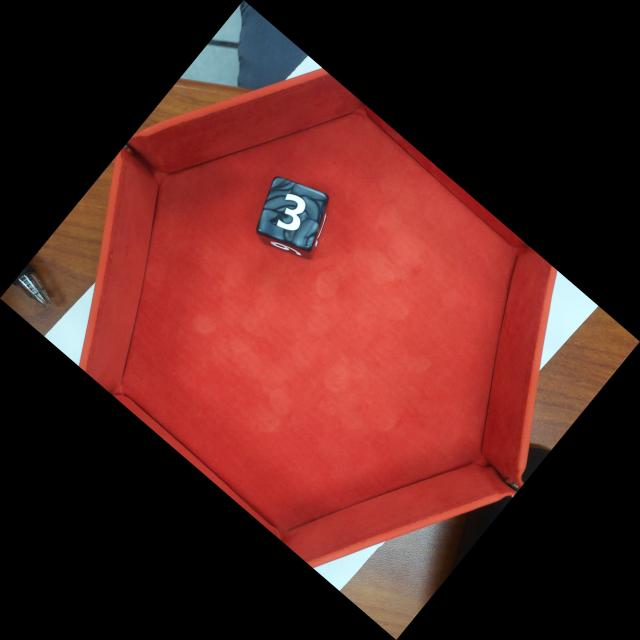dice: (253, 177, 330, 257)
